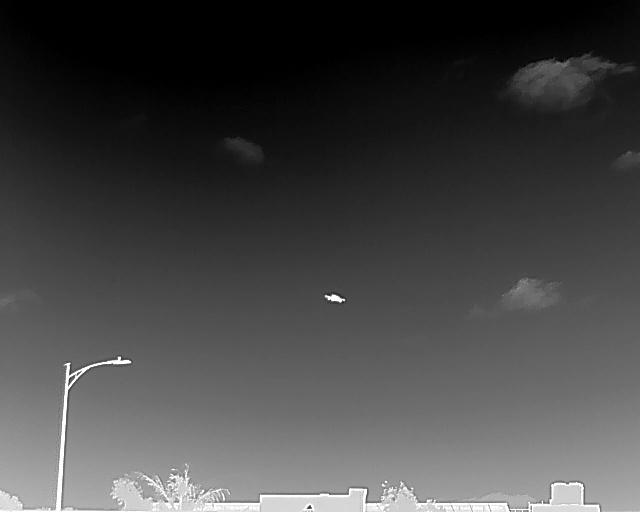fpv-drone: (323, 293, 346, 303)
